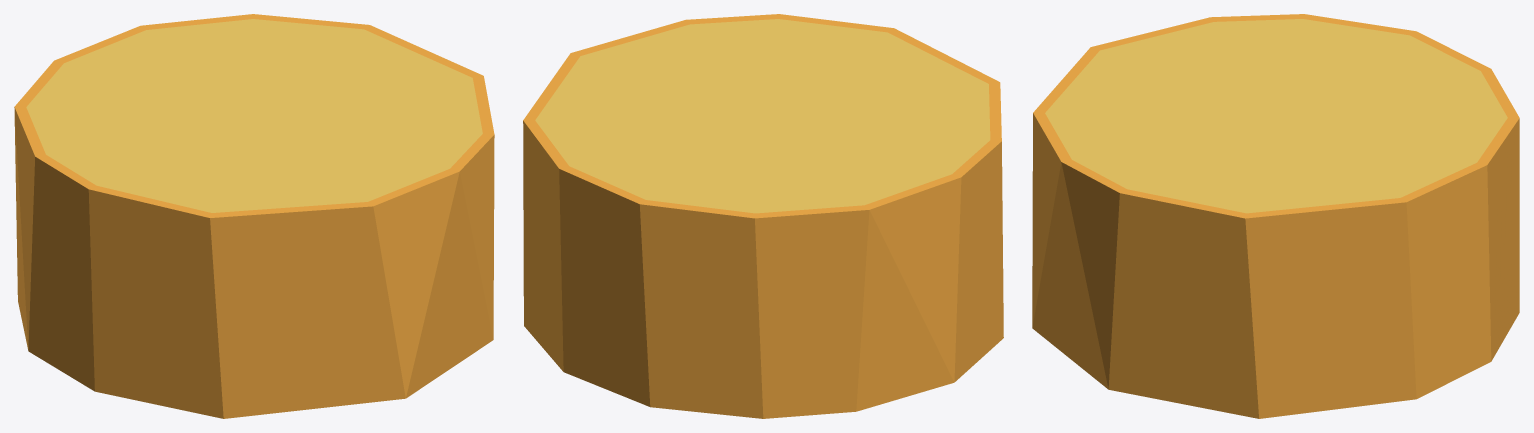
Rendered from CheeseWheel.fbx.
3 renders of one model, left to right at view 1: azimuth 30°, elevation 25°; view 2: azimuth 150°, elevation 25°; view 3: azimuth 270°, elevation 25°, orthographic.
Visible parts, largest first — view 1: Cylinder; view 2: Cylinder; view 3: Cylinder.
Boxes of the visible parts, bbox=[...] form: Cylinder: bbox=[14, 14, 494, 418]; Cylinder: bbox=[523, 14, 1003, 418]; Cylinder: bbox=[1032, 14, 1519, 418].
Bounding box in the file's own units: 202 × 91.7 × 203.
